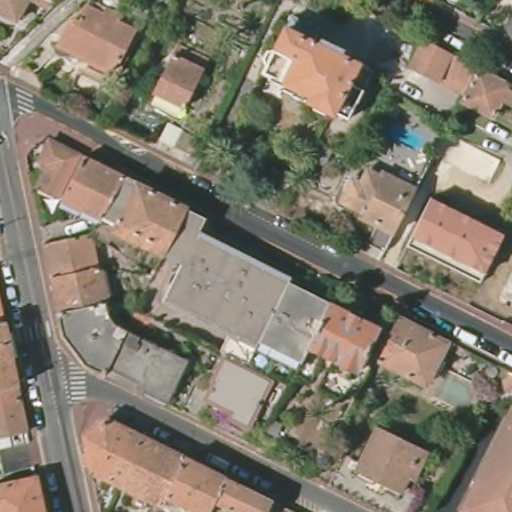pool: (391, 121, 431, 155)
